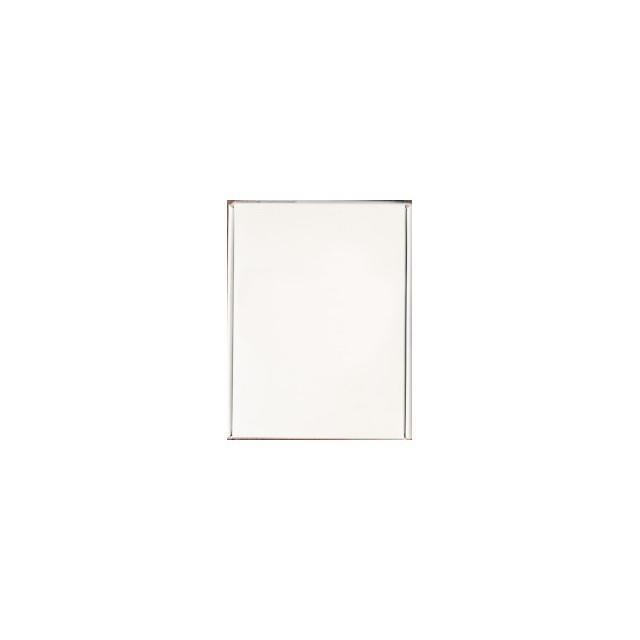Cardboard: (227, 201, 410, 436)
